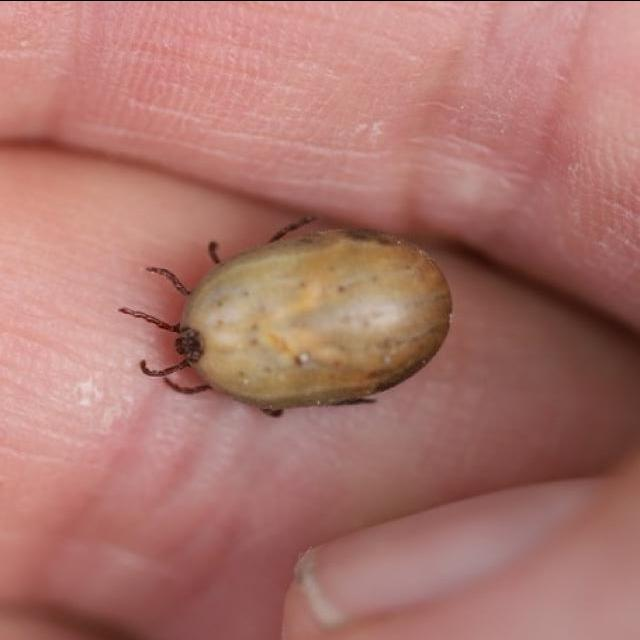Dermacentor Reticulatus-F-Fed: (118, 219, 454, 418)
